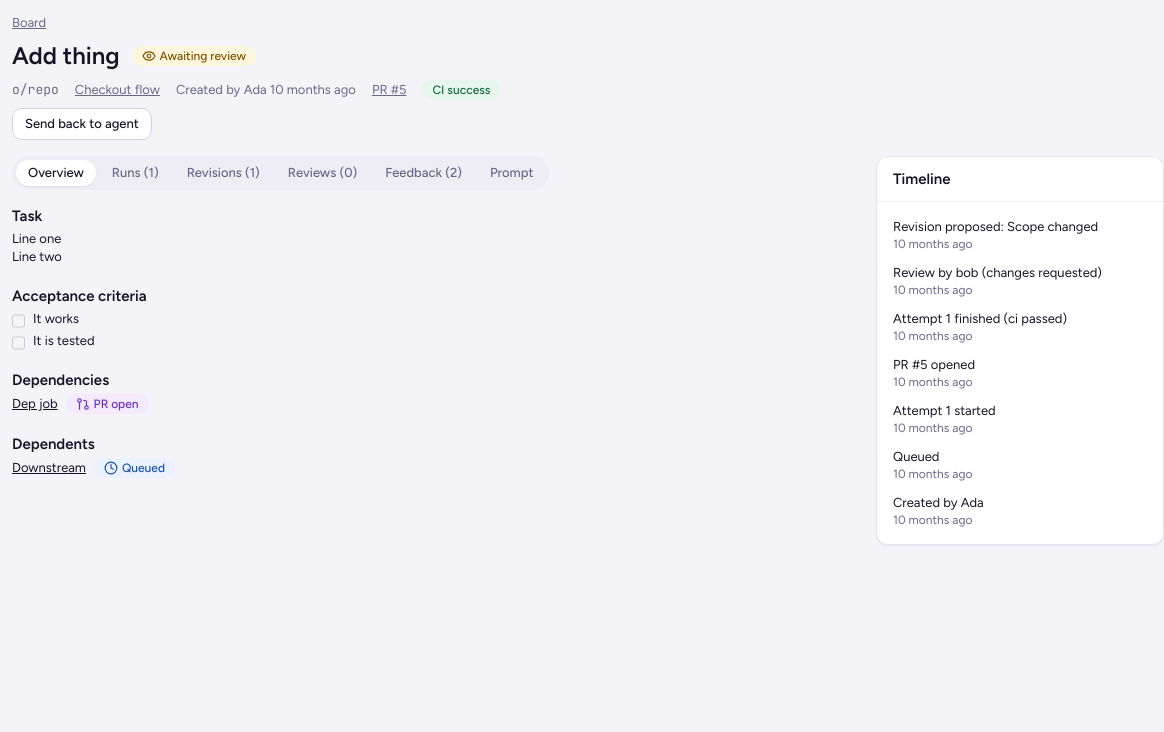
Test: JobDetailView › shows runs and feedback grouped per review
Click the tab "Runs (1)" at coordinates (135, 173), box [100,160,171,186]
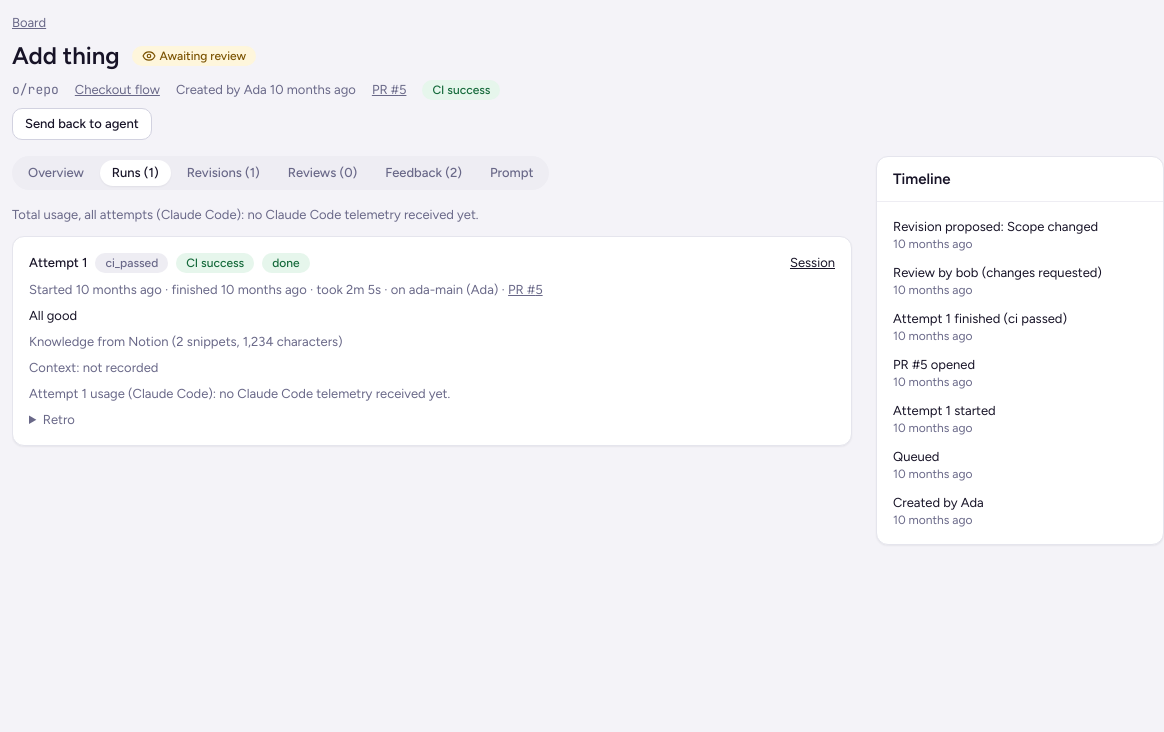
Result: the text "All good" is shown at [29,308,77,323]
Result: the link "Session" is shown at [790,254,835,272]
Click the tab "Feedback (2)" at coordinates (424, 173), box [373,160,474,186]
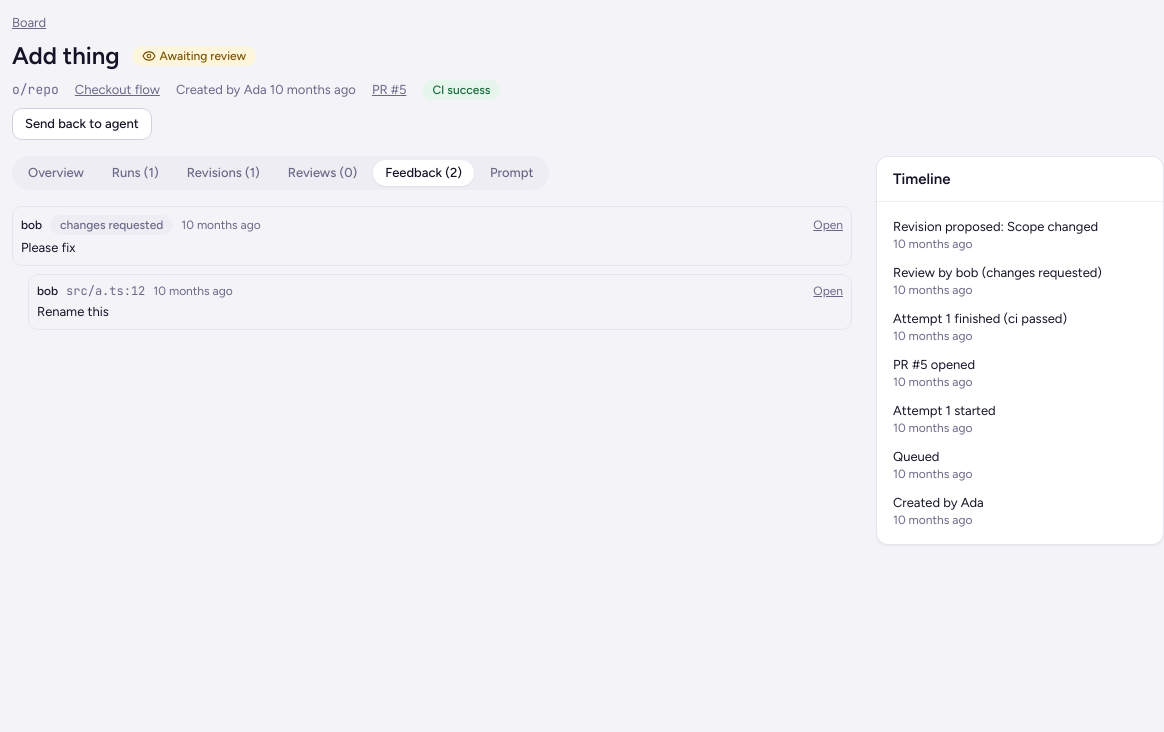
Result: the text "Rename this" is shown at [37,304,109,319]
Result: the text "src/a.ts:12" is shown at [66,283,145,299]
